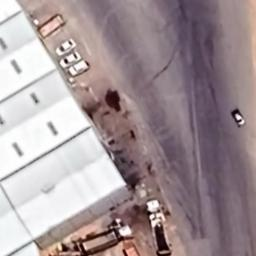pickup: (230, 107, 246, 130)
sedan: (58, 50, 82, 70), (55, 38, 77, 56)
truck: (146, 198, 174, 256)
van: (68, 60, 91, 78)
